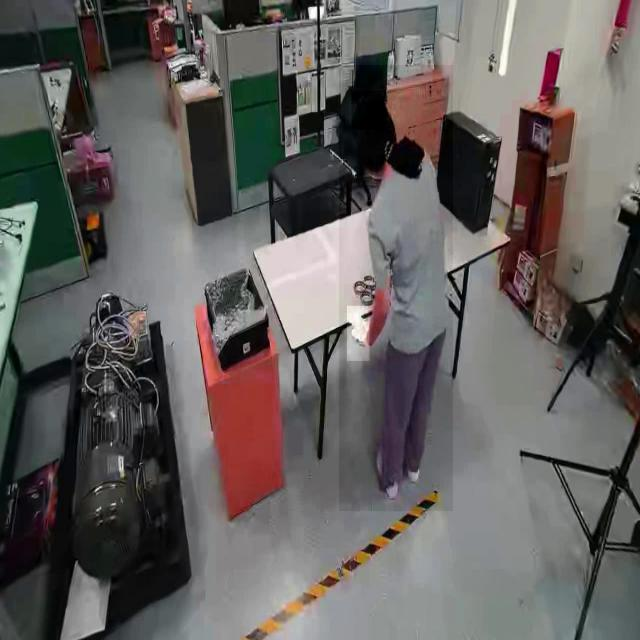hand_glove: (346, 306, 369, 362)
head_nohelmet: (351, 90, 387, 130)
person: (339, 65, 453, 512)
